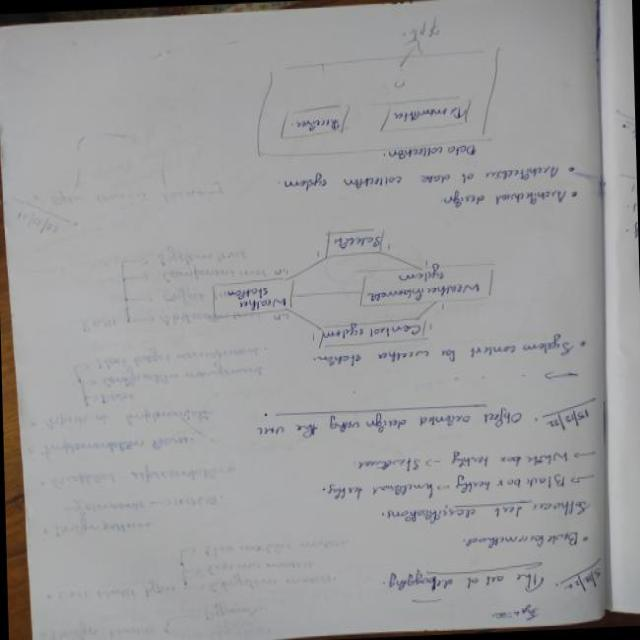Figure Detection - v3 Dataset Version2: (245, 7, 506, 173), (198, 216, 499, 357)
